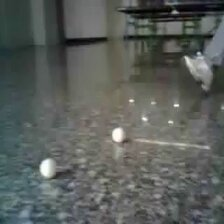w: (38, 158, 59, 180), (111, 127, 125, 142)
